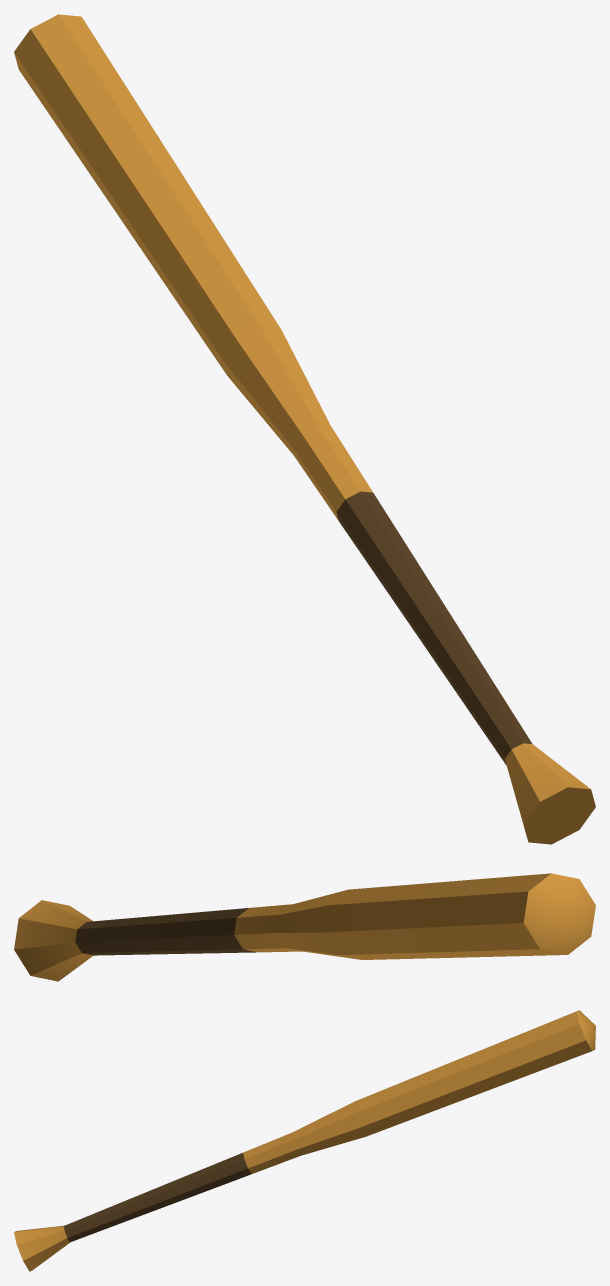
Rendered from Bat.fbx.
3 views of the same model, one above another, from view 1: azimuth 30°, elevation 25°; view 2: azimuth 210°, elevation 25°; view 3: azimuth 270°, elevation 25° (orthographic). The views are drawn at different scales.
Visible parts, largest first — view 1: pCylinder1; view 2: pCylinder1; view 3: pCylinder1.
Boxes of the visible parts, x1=… form: pCylinder1: x1=14, y1=14, x2=595, y2=844; pCylinder1: x1=14, y1=873, x2=595, y2=981; pCylinder1: x1=14, y1=1010, x2=595, y2=1271.
Size of the model in its own units: 0.7741 by 4.8 by 9.77.
